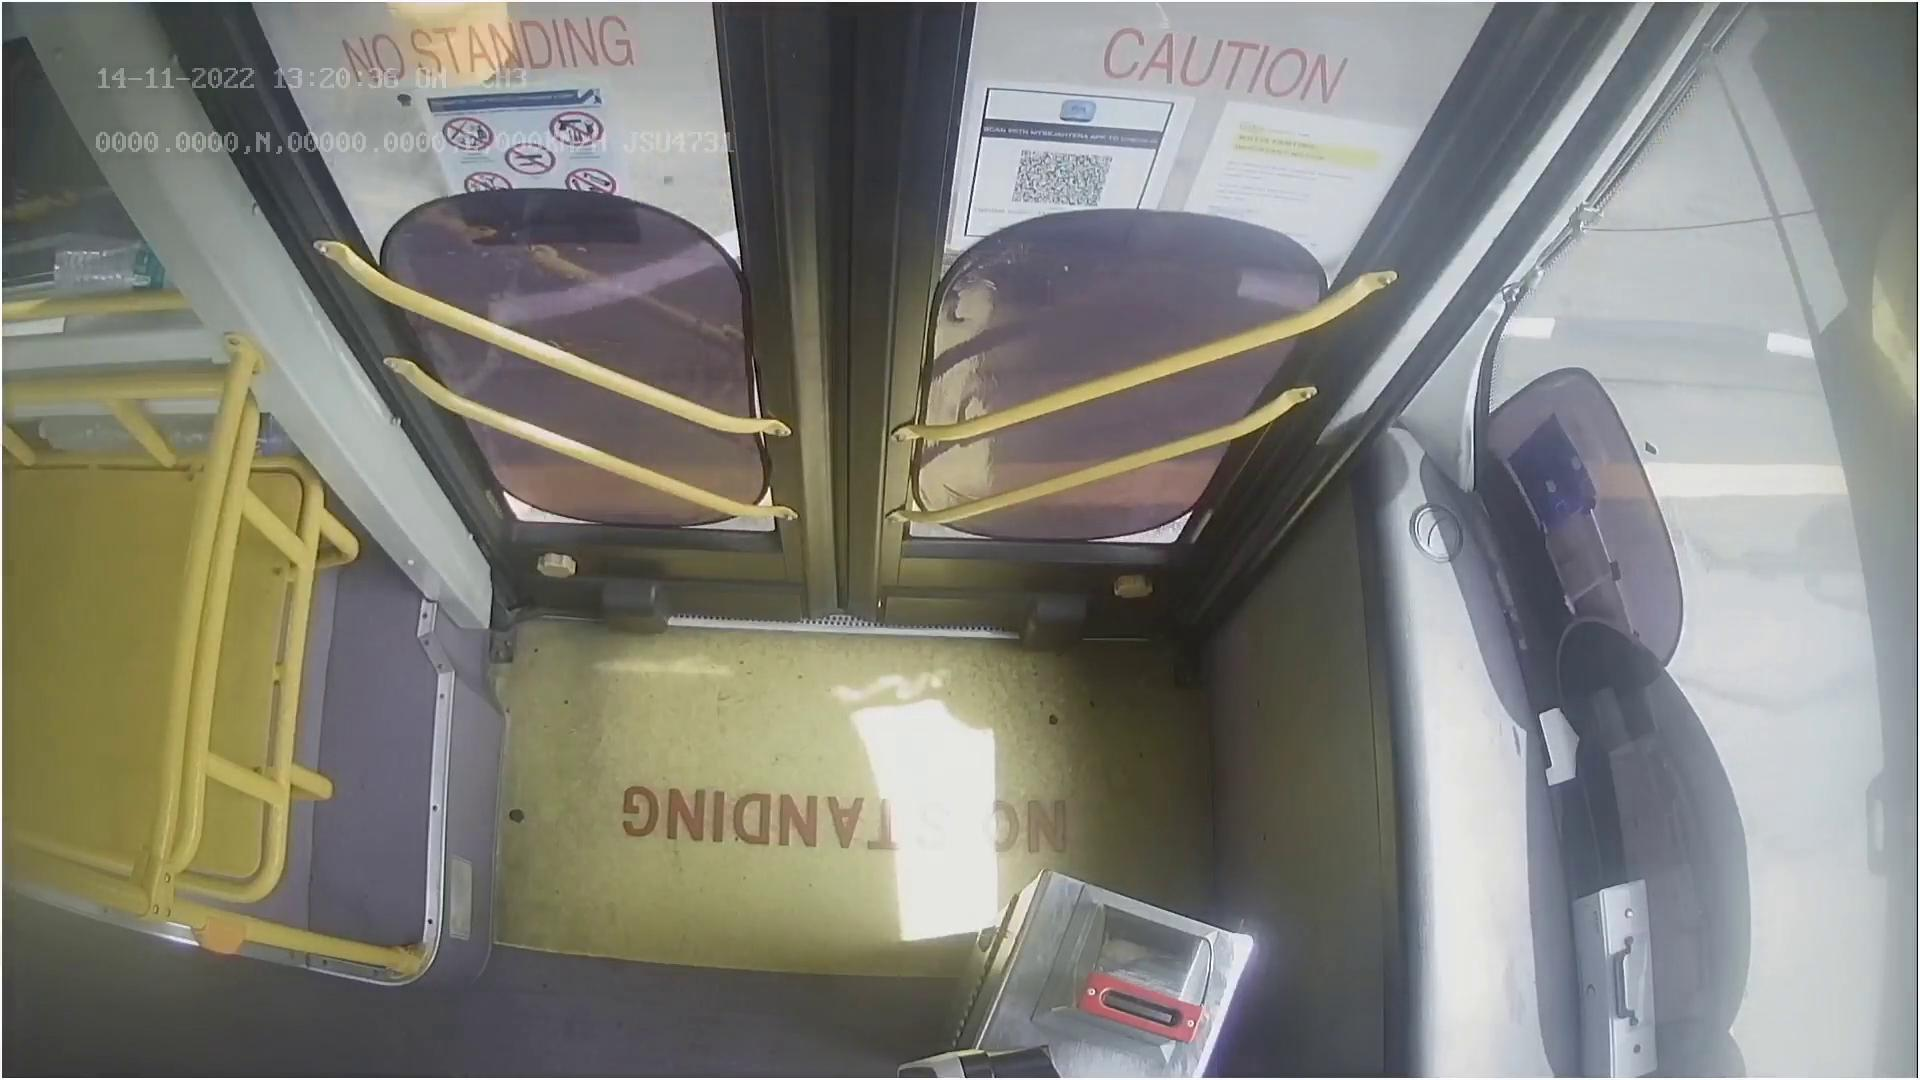close: (284, 0, 1453, 144)
